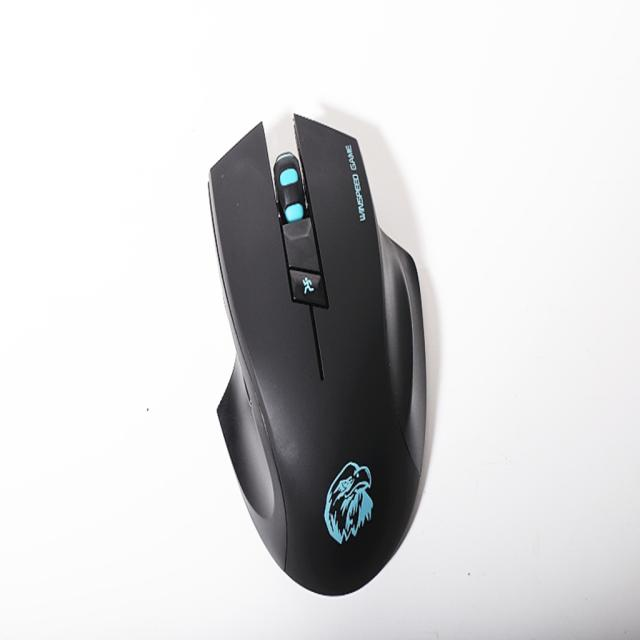Computer-mouse: (208, 116, 426, 594)
